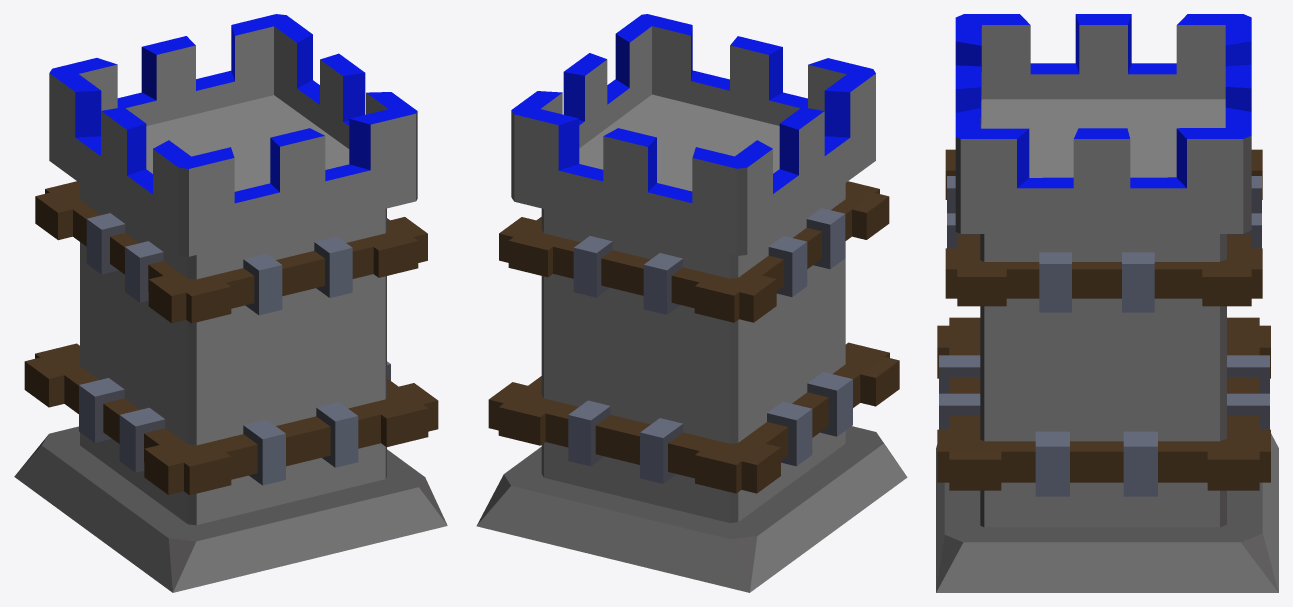
The model's file is Tower6.fbx.
3 renders of one model, left to right at view 1: azimuth 30°, elevation 25°; view 2: azimuth 150°, elevation 25°; view 3: azimuth 270°, elevation 25°, orthographic. The views are drawn at different scales.
Visible parts, largest first — view 1: Tower6; view 2: Tower6; view 3: Tower6.
Part boxes in pixels (x1=…): Tower6: x1=14, y1=14, x2=447, y2=592; Tower6: x1=476, y1=14, x2=907, y2=592; Tower6: x1=936, y1=14, x2=1278, y2=592.
Size of the model in its own units: 700 by 1000 by 700.
